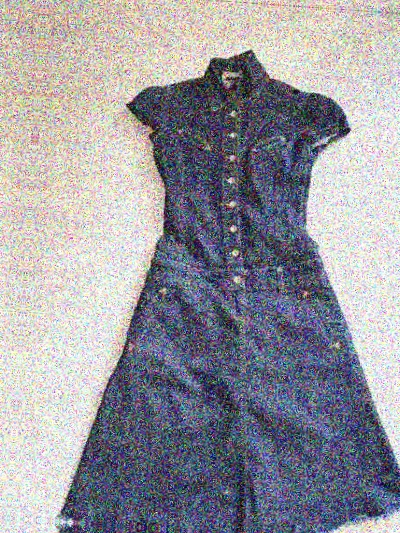Dress: (42, 41, 400, 533), (0, 12, 8, 514), (8, 523, 397, 533)
